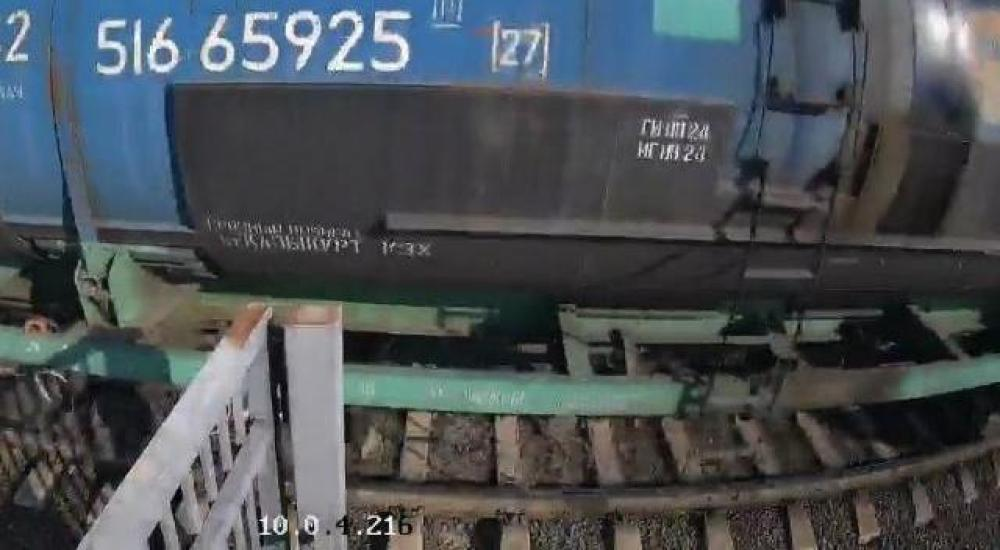Wagon-number: (88, 3, 419, 82)
